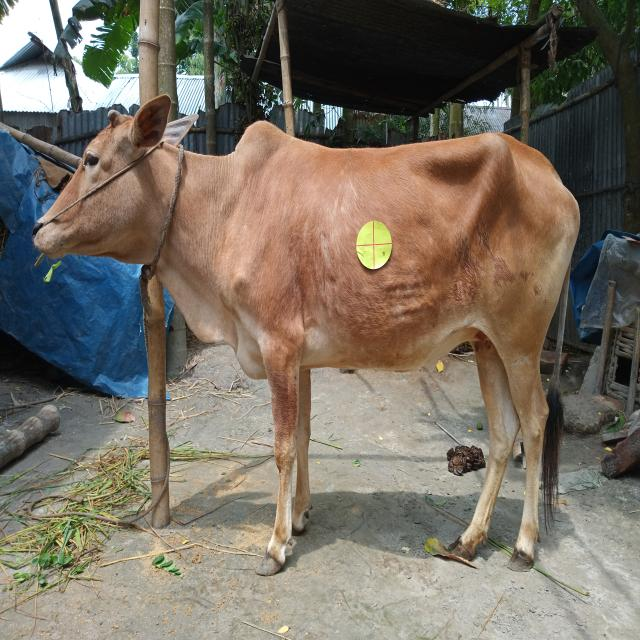badan_sapi: (237, 136, 574, 368)
sapi: (29, 82, 599, 584)
